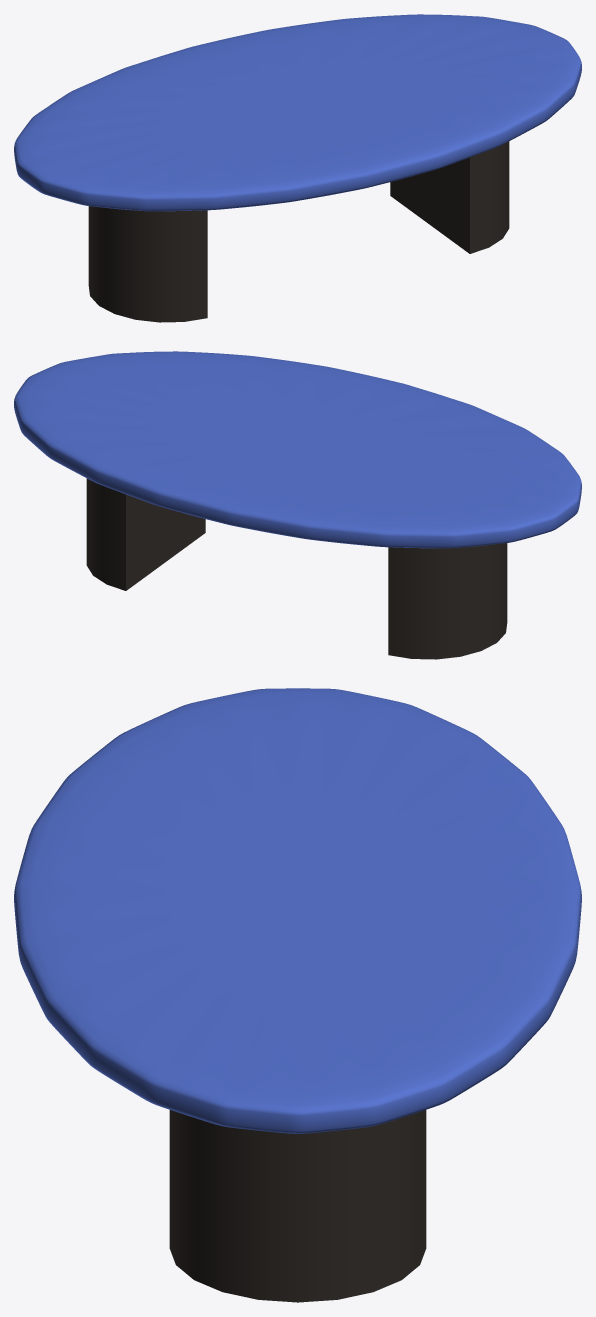
Rendered from conference table.fbx.
The picture shows the model from 3 angles, top to bottom: view 1: azimuth 30°, elevation 25°; view 2: azimuth 150°, elevation 25°; view 3: azimuth 270°, elevation 25°; orthographic projection. The views are drawn at different scales.
Visible parts, largest first — view 1: polySurface15; view 2: polySurface15; view 3: polySurface15.
Boxes of the visible parts, x1,y1,x2,y2 form: polySurface15: (14, 14, 581, 322); polySurface15: (14, 351, 581, 659); polySurface15: (14, 688, 581, 1302).
Bounding box in the file's own units: 29.96 × 8.27 × 16.92.
